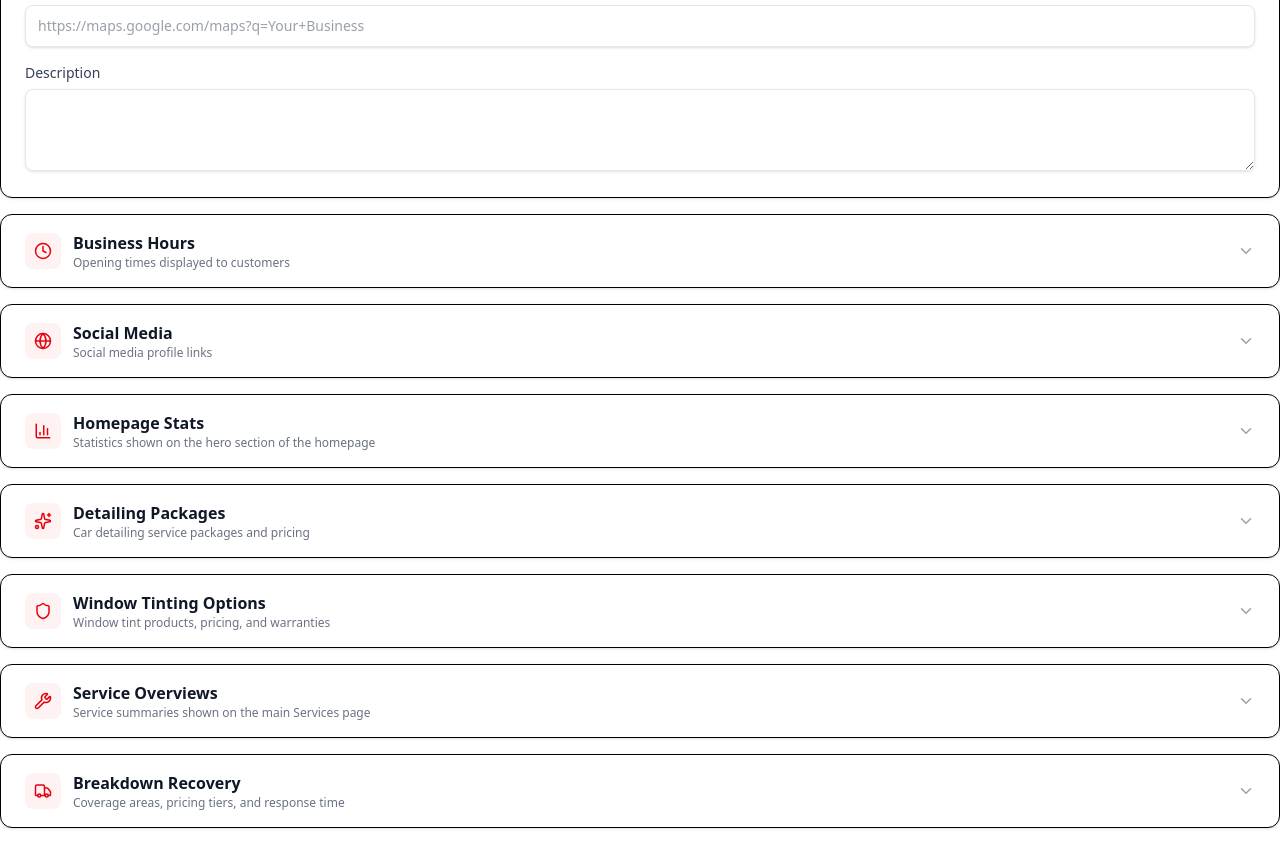
BusinessInfoForm Component › Detailing Packages sub-editor › shows the Add button and no packages when list is empty
The image size is (1280, 845).
(page scrolled)
Click the heading "Detailing Packages" at (149, 513), box x1=73 y1=502 x2=225 y2=524
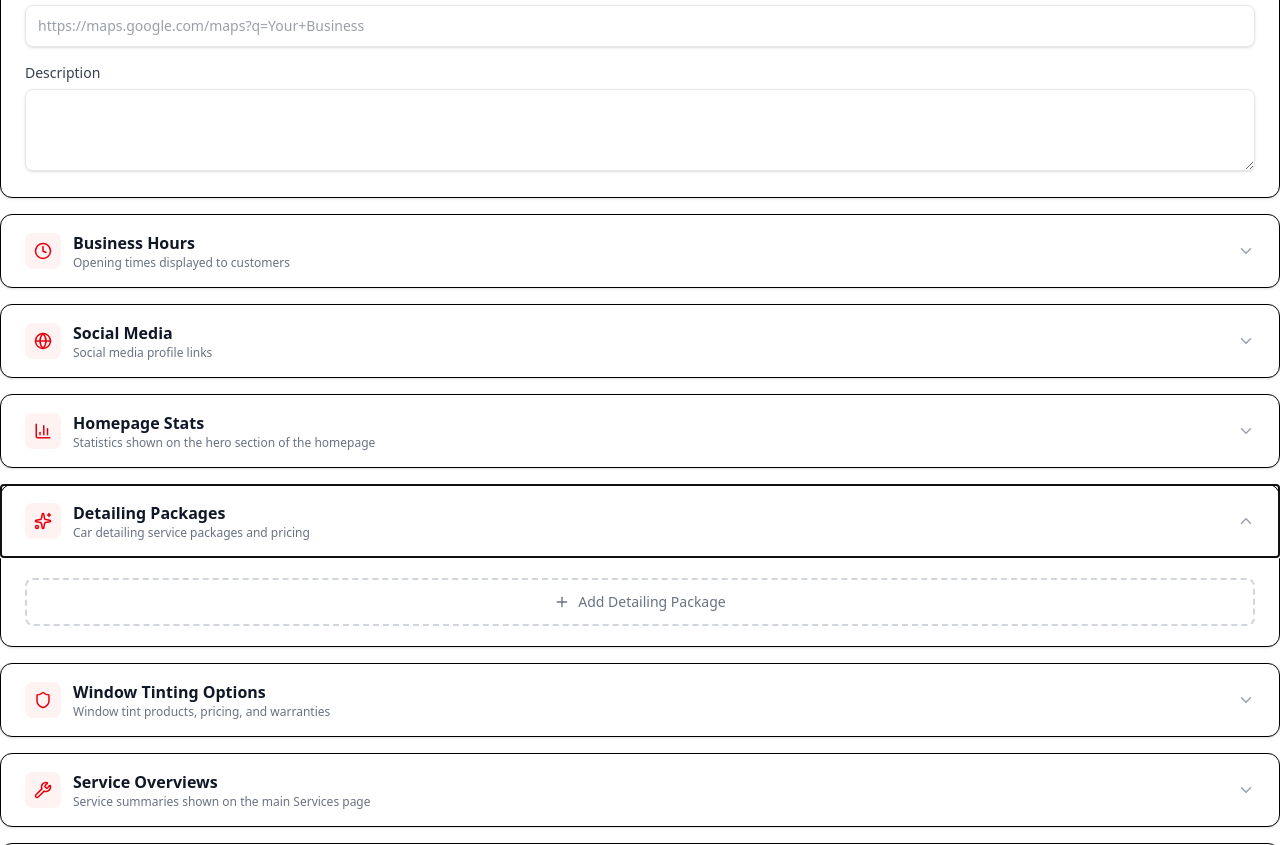
Result: the button "Add Detailing Package" is shown at x1=25 y1=578 x2=1255 y2=626
